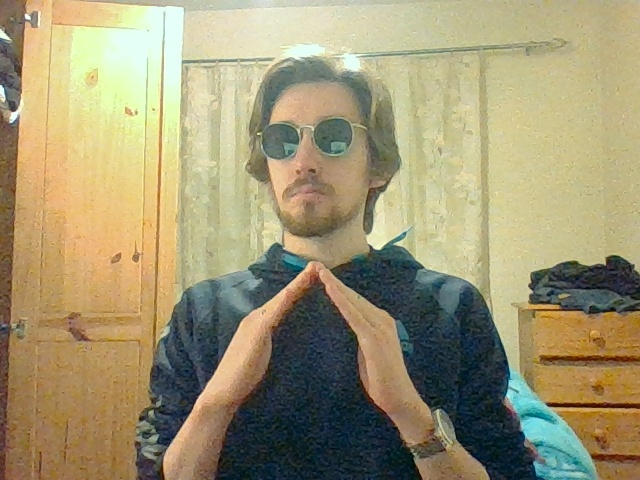home: (233, 260, 399, 355)
